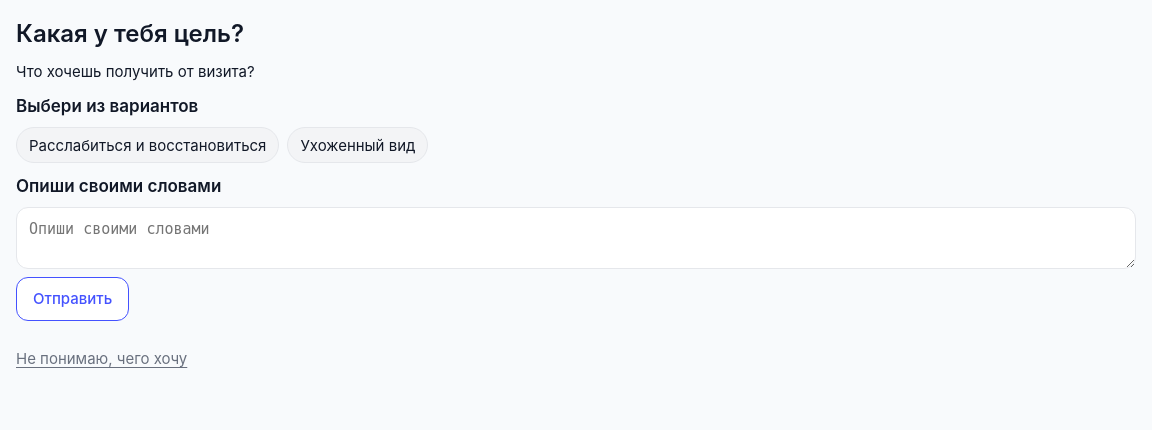
Test: GoalSelectScreen (dumb renderer over the decision document) › chip click → postGoalSelect({goal_key}) → re-renders the returned document
Click the radio button labelled "Расслабиться и восстановиться". click: [148, 145]
box: [16,127,279,163]
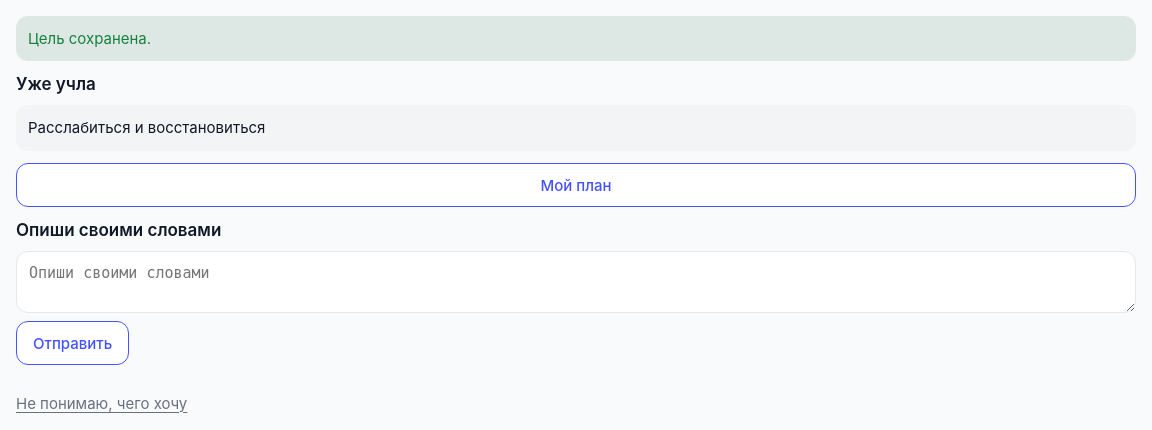
Expected: the text "Расслабиться и восстановиться" is shown, [28,117,265,139]
Expected: the text "Что хочешь получить от визита?" is gone
